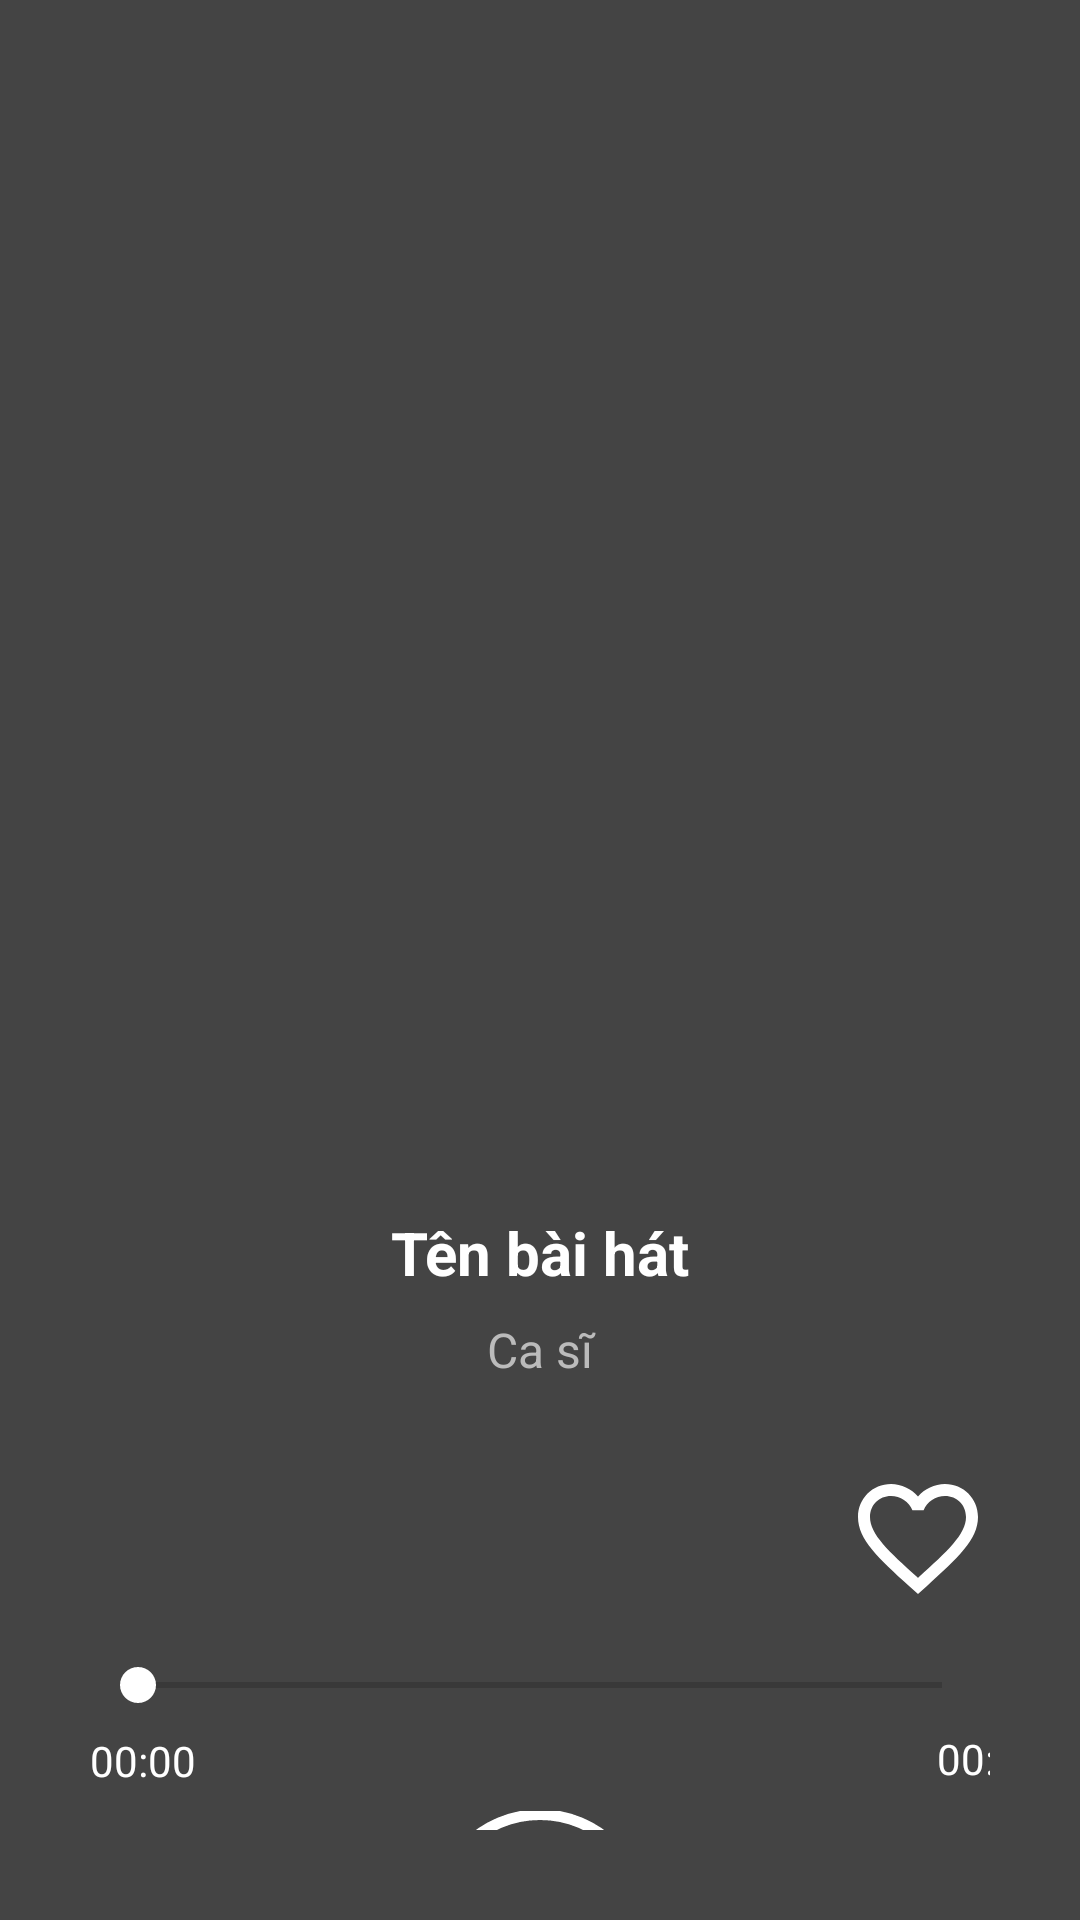

Icon bounding boxes for this 1080 x 1920 phone screenshot, format box=[x1, y1, x2, y2]:
Favorite Button: box=[858, 1484, 978, 1594]
